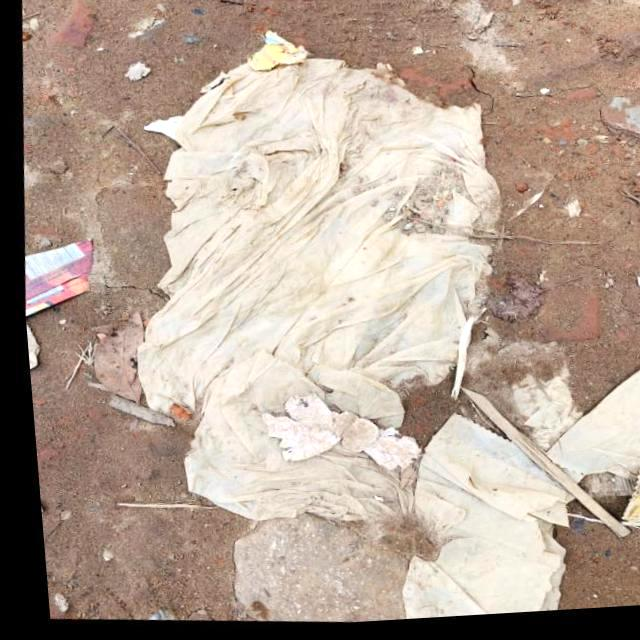polythene: (171, 101, 514, 515)
